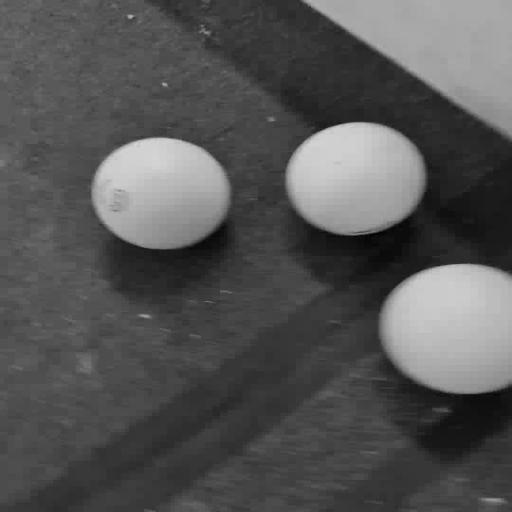fuel: (379, 264, 511, 394), (285, 122, 426, 235), (92, 138, 231, 249)
